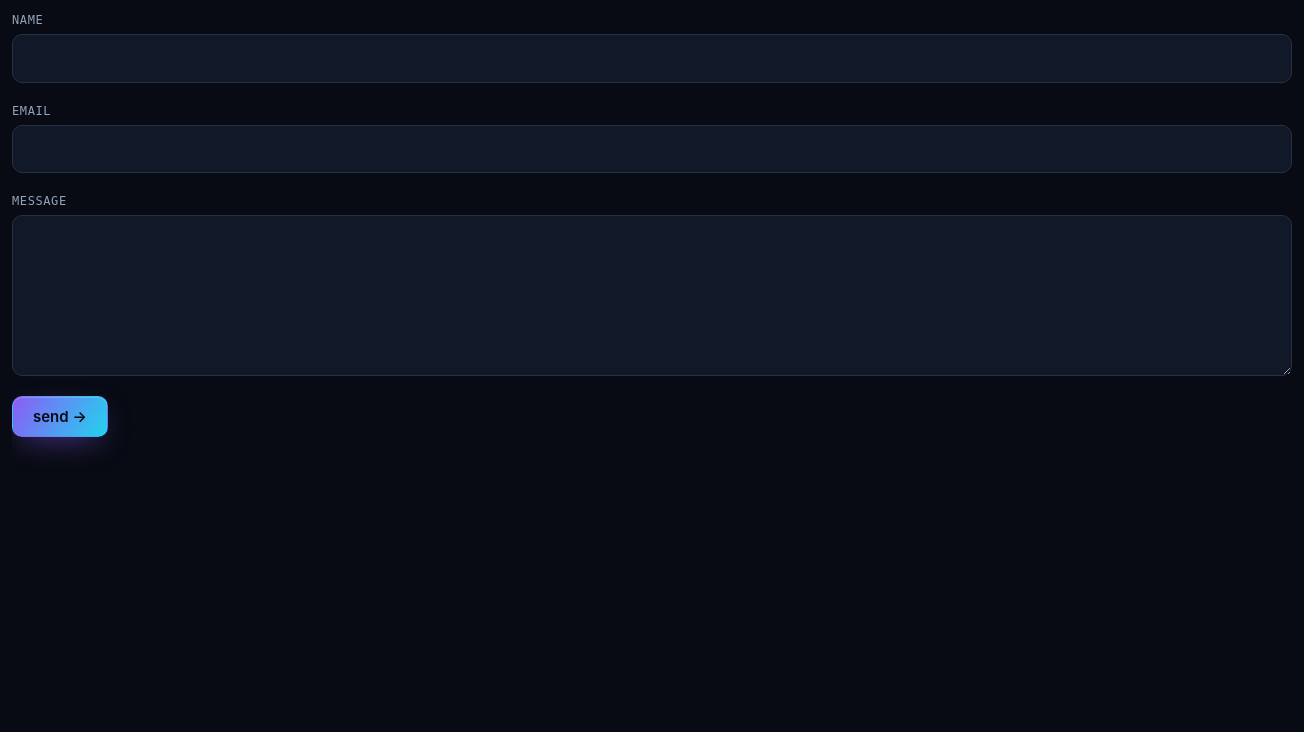
Test: ContactForm › shows a server error when the action returns ok=false with a message
Step 1. Type "Ada Lovelace" into the field labelled "name" → [652, 58], box top-left (12, 34), bottom-right (1292, 82)
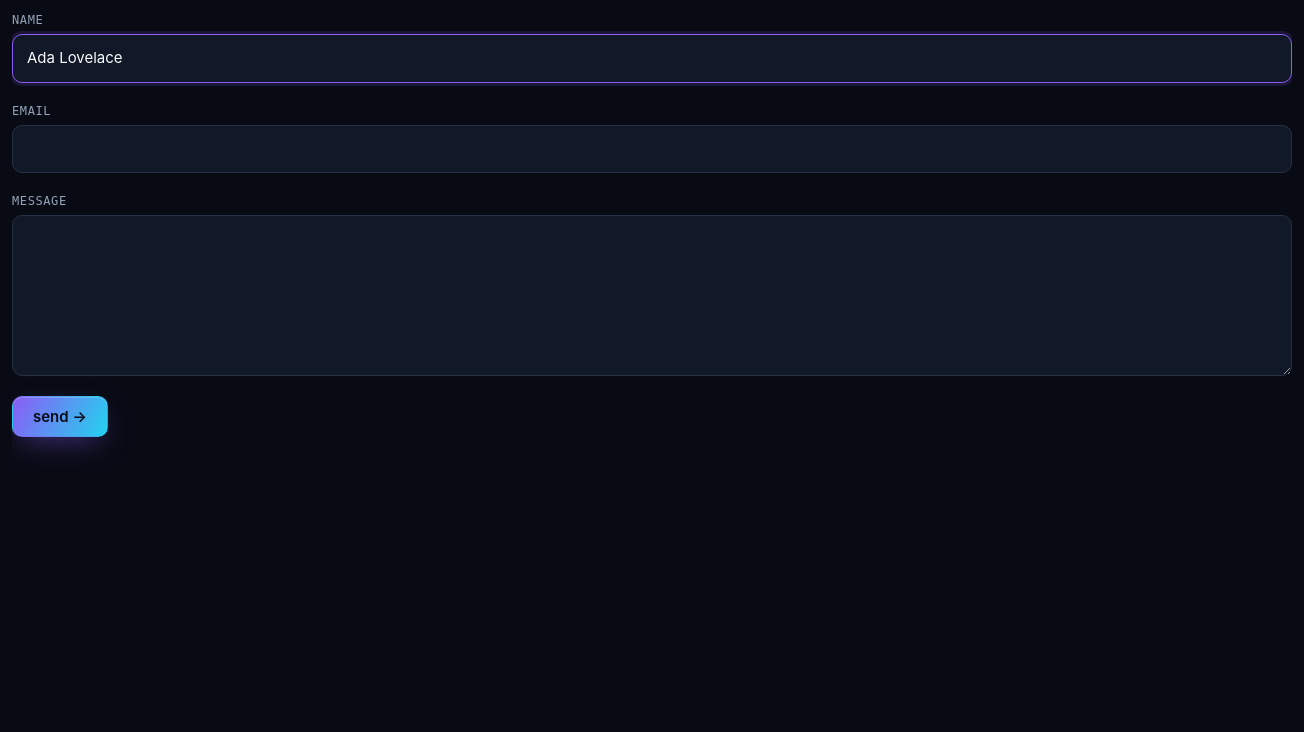
Step 2. Type "ada@example.com" into the field labelled "email" → [652, 149], box top-left (12, 124), bottom-right (1292, 173)
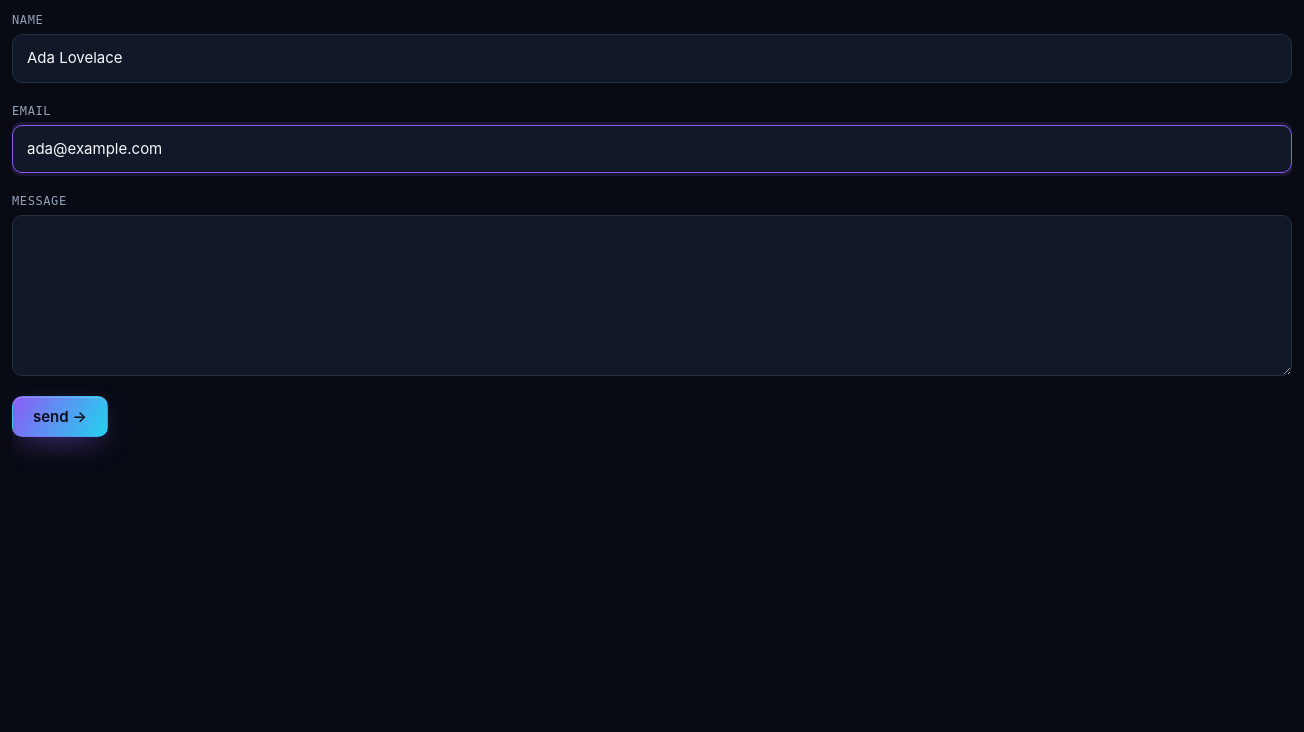
Step 3. Type "Hello there, this is a real message." into the text box labelled "message" → [652, 296], box top-left (12, 215), bottom-right (1292, 376)
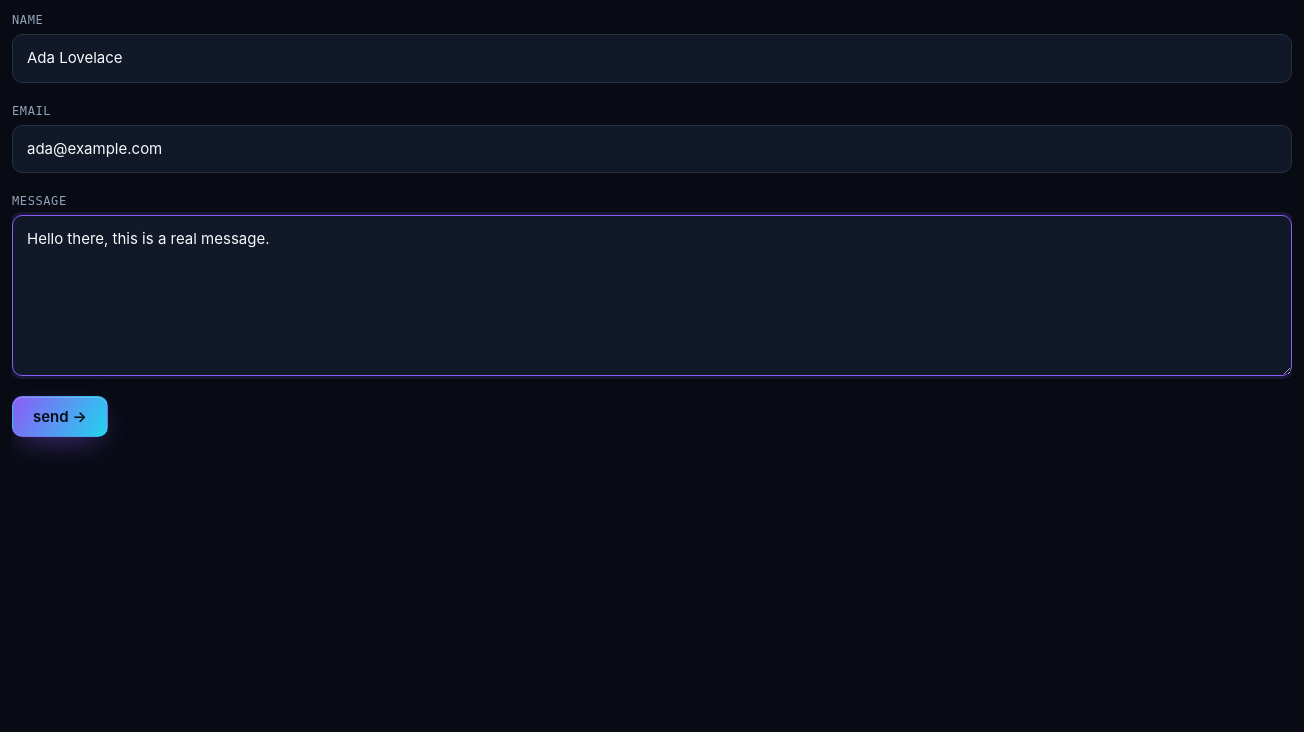
Step 4. Click the button "send →" → [60, 416], box top-left (12, 396), bottom-right (108, 437)
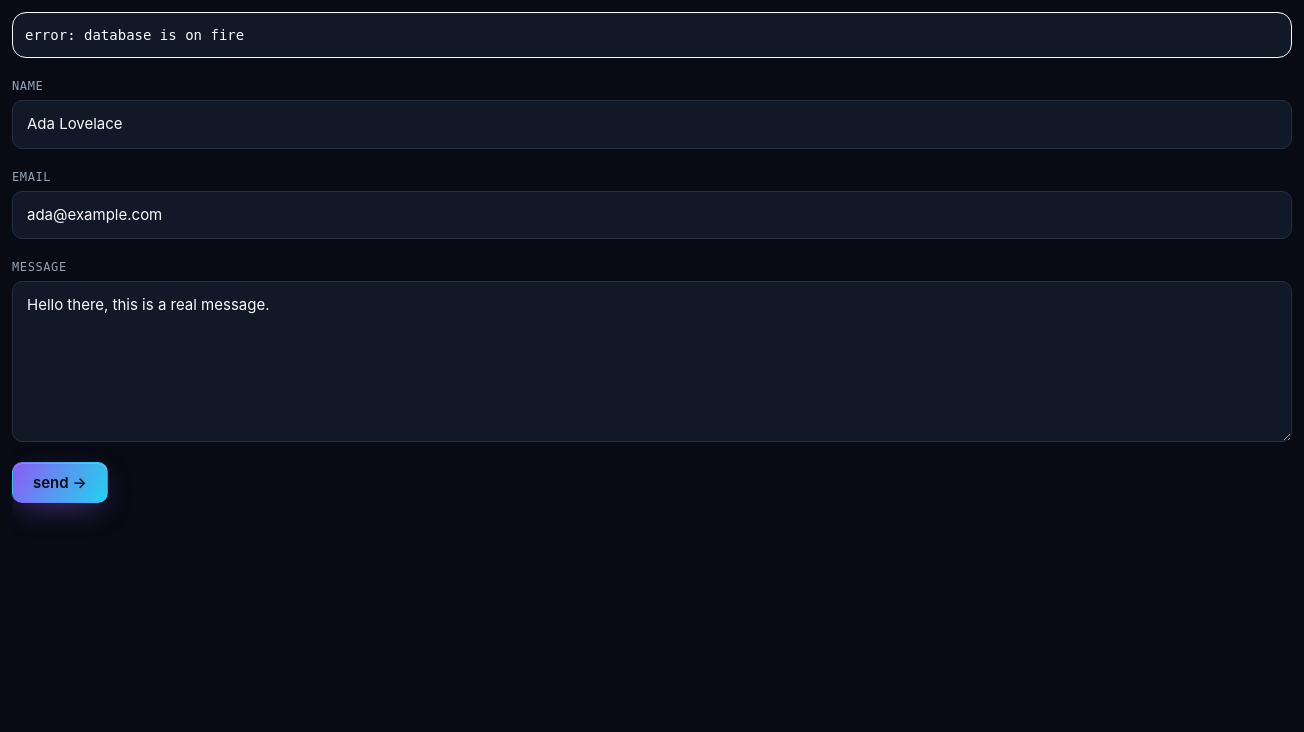
Expected: the message with test id "contact-server-error" shows "database is on fire", top-left (84, 27), bottom-right (244, 43)
